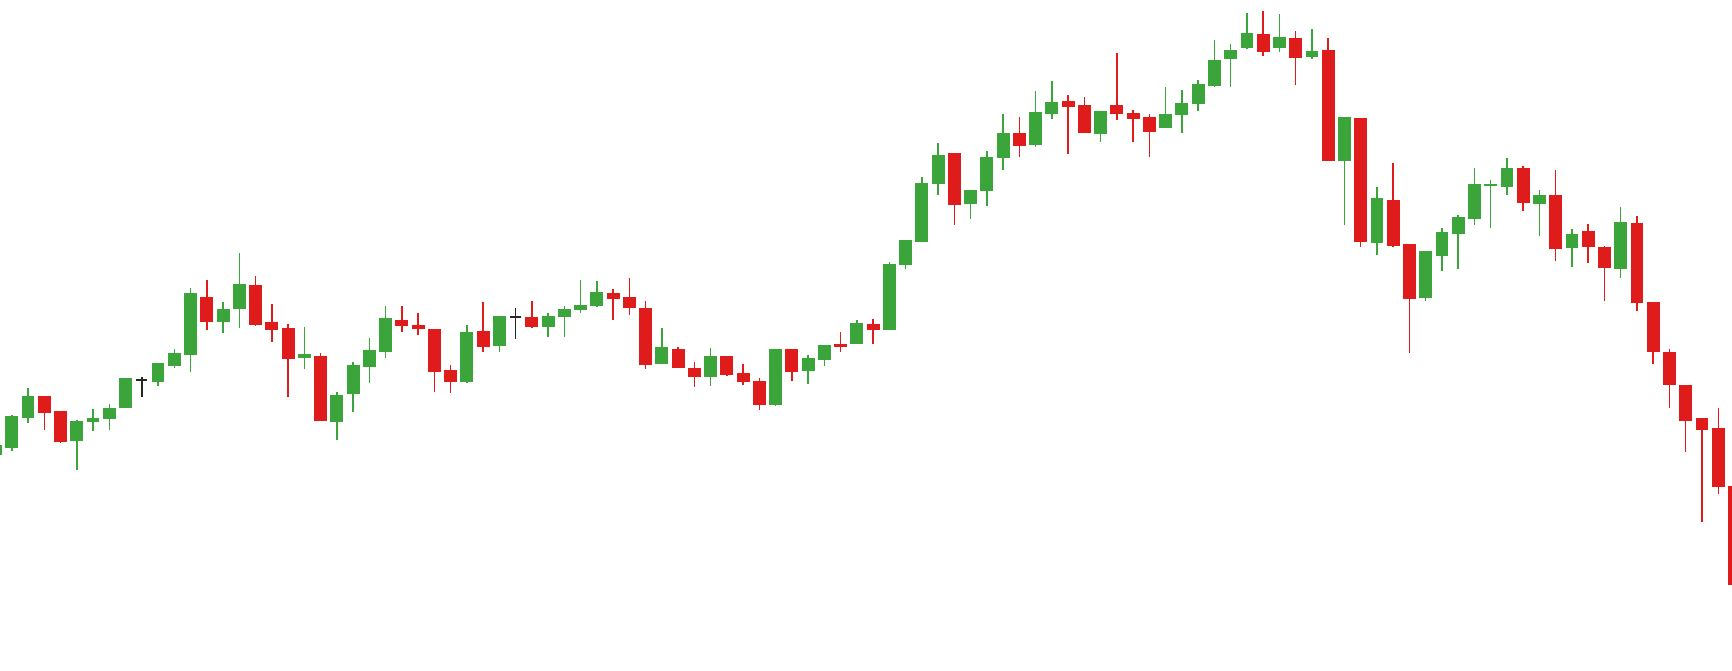sell: (1105, 12, 1305, 107)
